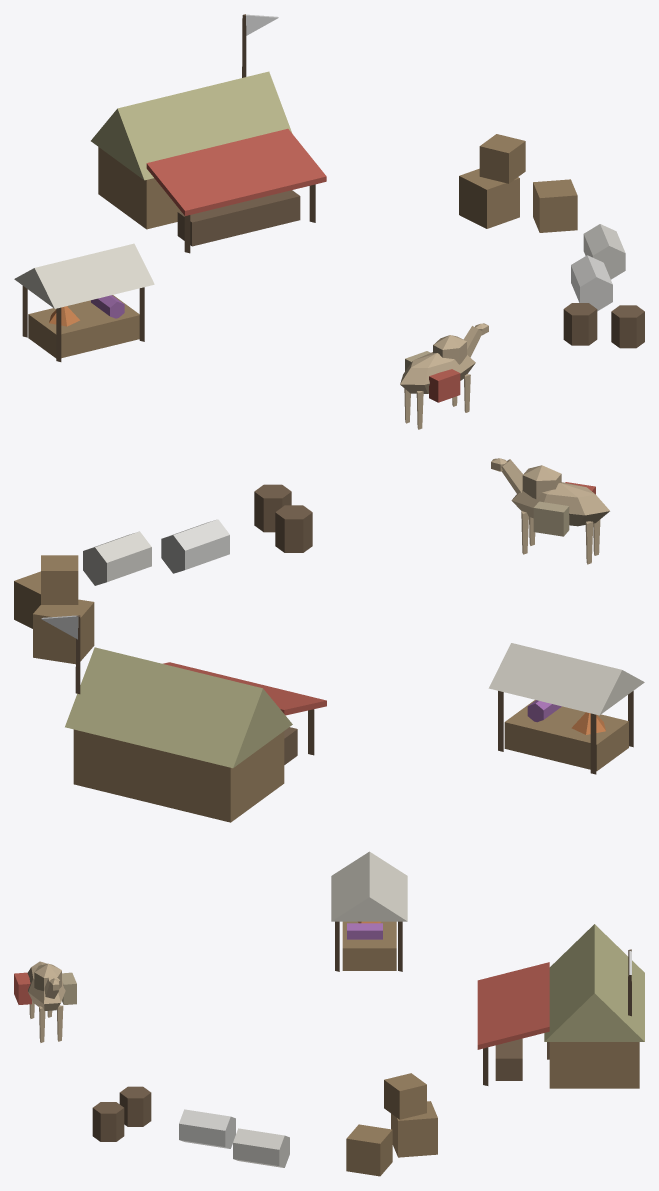
The model's file is trading-post.glb.
3 renders of one model, top to bottom at view 1: azimuth 30°, elevation 25°; view 2: azimuth 150°, elevation 25°; view 3: azimuth 270°, elevation 25°, orthographic. The views are drawn at different scales.
Visible parts, largest first — view 1: LOD0; view 2: LOD0; view 3: LOD0.
Boxes of the visible parts, x1,y1,x2,y2 form: LOD0: [14, 14, 644, 429]; LOD0: [14, 458, 644, 822]; LOD0: [14, 851, 644, 1176].
Size of what is drawn, in the model's own units: 1.3 by 0.344 by 1.4.
